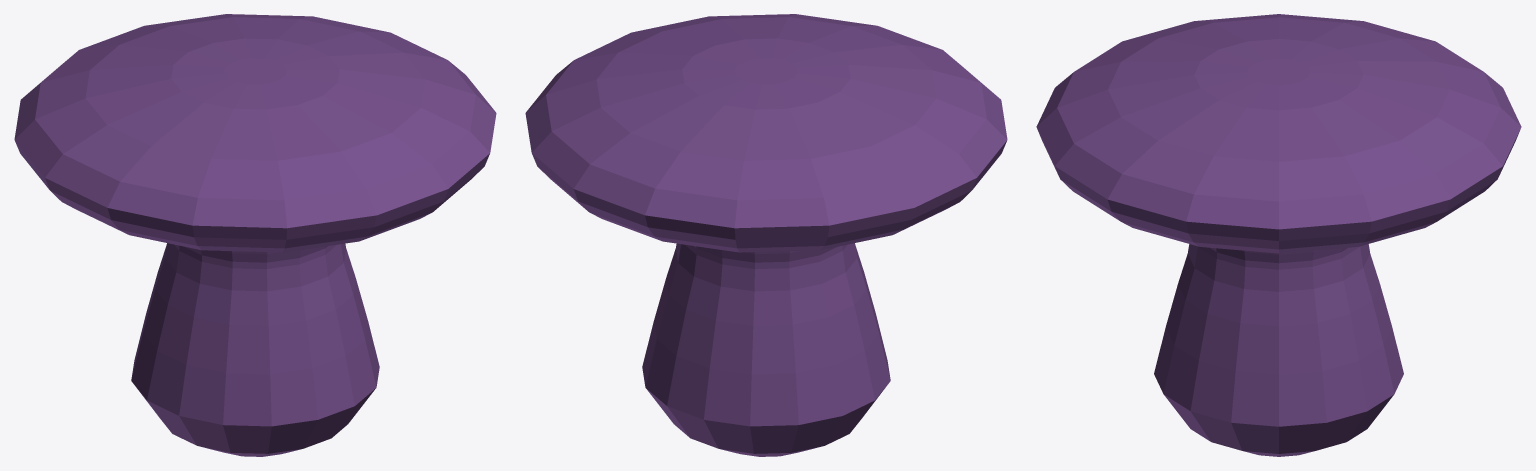
The model's file is mushroom_cap.glb.
3 renders of one model, left to right at view 1: azimuth 30°, elevation 25°; view 2: azimuth 150°, elevation 25°; view 3: azimuth 270°, elevation 25°, orthographic.
Parts seen in each view (by area): view 1: mushroom_cap; view 2: mushroom_cap; view 3: mushroom_cap.
Part boxes in pixels (<box>): mushroom_cap: <box>14,14,496,456</box>; mushroom_cap: <box>525,14,1007,456</box>; mushroom_cap: <box>1036,14,1521,456</box>.
Bounding box in the file's own units: 1 × 0.8366 × 1.
1 material, 1 textured.
